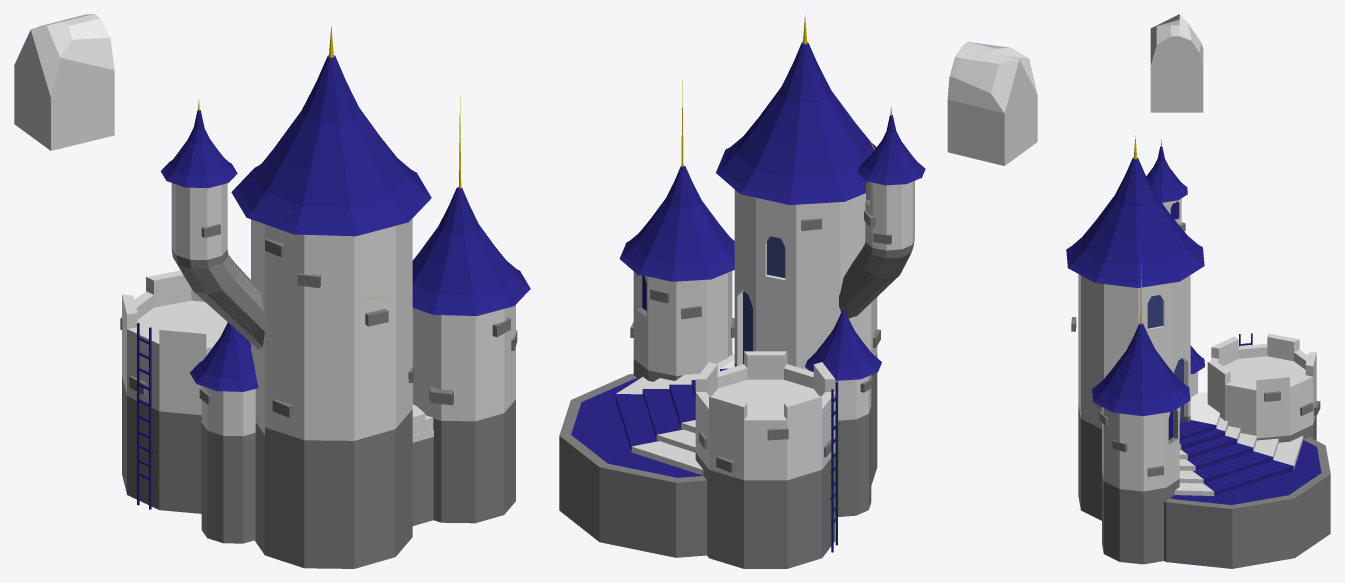
File: updatedcastle.fbx
The picture shows the model from 3 angles, left to right: view 1: azimuth 30°, elevation 25°; view 2: azimuth 150°, elevation 25°; view 3: azimuth 270°, elevation 25°; orthographic projection. The views are drawn at different scales.
Visible parts, largest first — view 1: Castle, Castle.010, Castle.004, Cube, Castle.017, Castle.006, Castle.003, Castle.012, Castle.018, Castle.008, Castle.002, Castle.014 (+10 smaller); view 2: Castle, Castle.003, Castle.001, Castle.010, Cube, Castle.014, Castle.013, Castle.008, Castle.005, Castle.012, Tower, Tower.001 (+5 smaller); view 3: Castle, Castle.004, Castle.010, Castle.001, Cube, Castle.014, Castle.002, Castle.012, Castle.003, Castle.011, Castle.018, Tower (+3 smaller).
Part boxes in pixels (x1,y1,x2,y2): Castle: [120, 25, 517, 568]; Castle.010: [412, 115, 530, 375]; Castle.004: [273, 123, 431, 298]; Cube: [14, 14, 114, 150]; Castle.017: [255, 397, 394, 568]; Castle.006: [257, 233, 397, 426]; Castle.003: [231, 88, 340, 267]; Castle.012: [412, 337, 515, 476]; Castle.018: [323, 401, 412, 556]; Castle.008: [190, 322, 258, 458]; Castle.002: [313, 27, 392, 186]; Castle.014: [121, 270, 226, 426]; Castle: [559, 22, 925, 568]; Castle.003: [735, 78, 874, 254]; Castle.001: [559, 353, 734, 556]; Castle.010: [619, 85, 734, 343]; Cube: [947, 42, 1037, 165]; Castle.014: [695, 351, 838, 503]; Castle.013: [707, 460, 837, 568]; Castle.008: [805, 310, 881, 437]; Castle.005: [747, 197, 871, 320]; Castle.012: [633, 291, 734, 381]; Tower: [857, 148, 890, 263]; Tower.001: [876, 106, 924, 195]; Castle: [1071, 136, 1330, 568]; Castle.004: [1066, 202, 1198, 343]; Castle.010: [1092, 259, 1190, 480]; Castle.001: [1164, 392, 1330, 568]; Cube: [1150, 14, 1203, 112]; Castle.014: [1207, 333, 1320, 442]; Castle.002: [1087, 140, 1149, 245]; Castle.012: [1102, 428, 1179, 523]; Castle.003: [1136, 180, 1204, 269]; Castle.011: [1102, 510, 1163, 564]; Castle.018: [1078, 388, 1190, 518]; Tower: [1153, 177, 1187, 231].
Size of the model in its own units: 1457 by 1653 by 1005.
